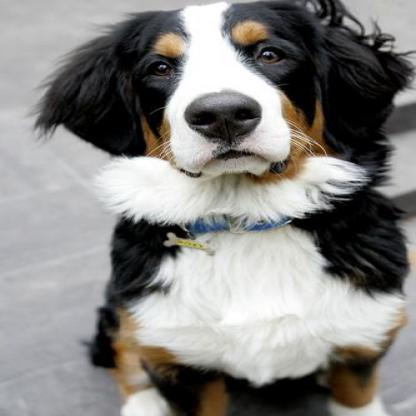Bernese_mountain_dog: (34, 1, 412, 413)
